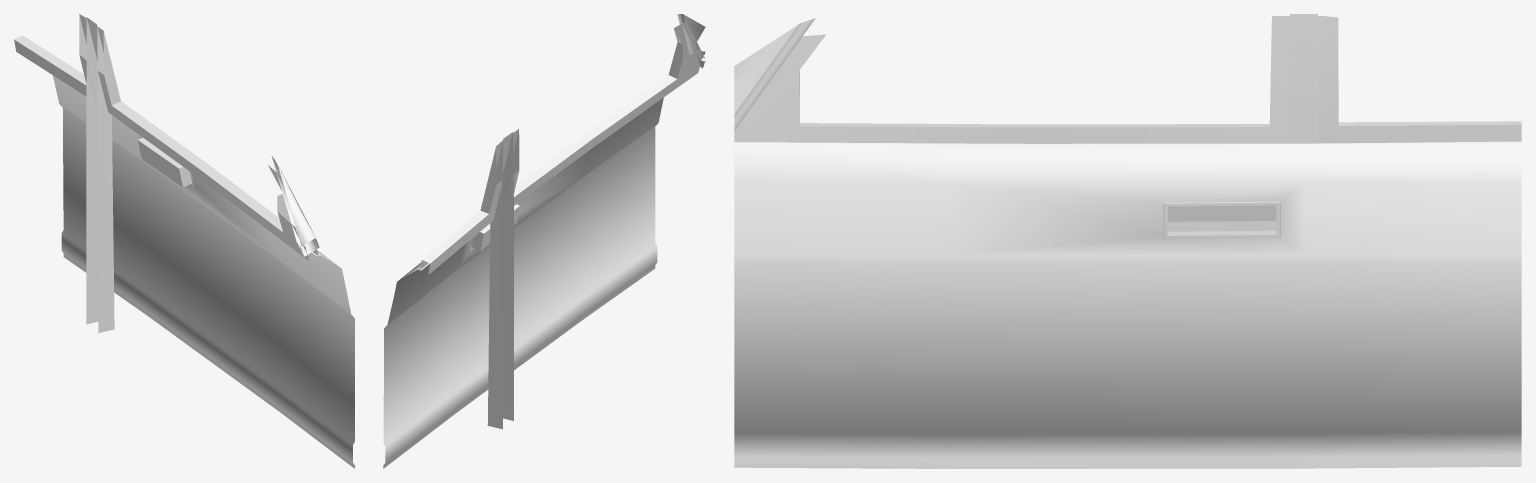
3 renders of one model, left to right at view 1: azimuth 30°, elevation 25°; view 2: azimuth 150°, elevation 25°; view 3: azimuth 270°, elevation 25°, orthographic. The views are drawn at different scales.
Size of the model in its own units: 0.1284 by 0.6826 by 1.16.
1 material, 1 textured.
